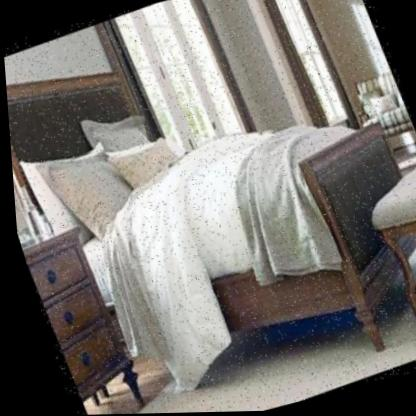Bed: (5, 55, 416, 399)
Nightstand: (18, 227, 138, 415)
